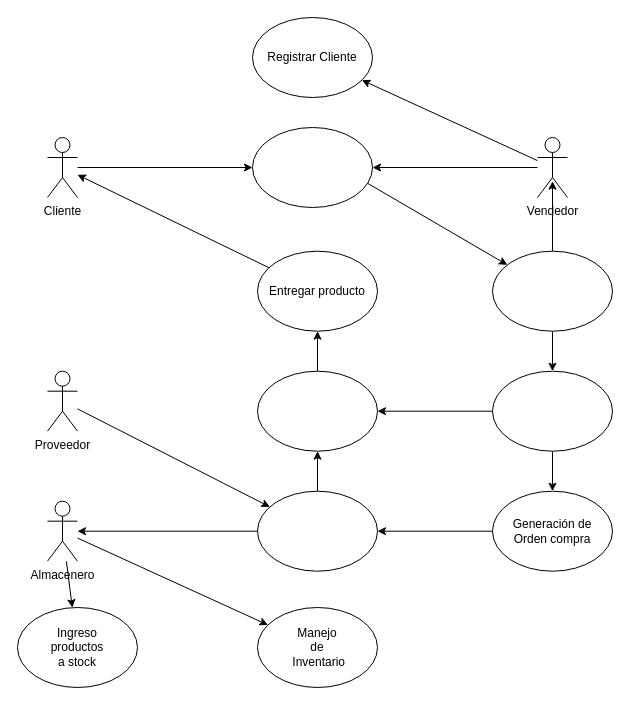
This 630x705 diagram has some shape labels left out. The shapes that lost their labels are listed below. From the top down, each one's centre as x and y in pixels, then its label:
At pixel 312 167: "Solicitar Cotización".
At pixel 552 290: "Generación Orden de Pedido".
At pixel 317 410: "Reservar producto".
At pixel 552 410: "Verificar stock de Productos".
At pixel 317 530: "Recepcionar productos".
